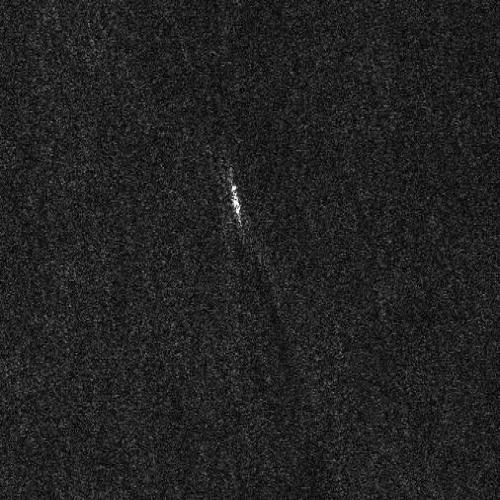ship: (230, 182, 242, 226)
